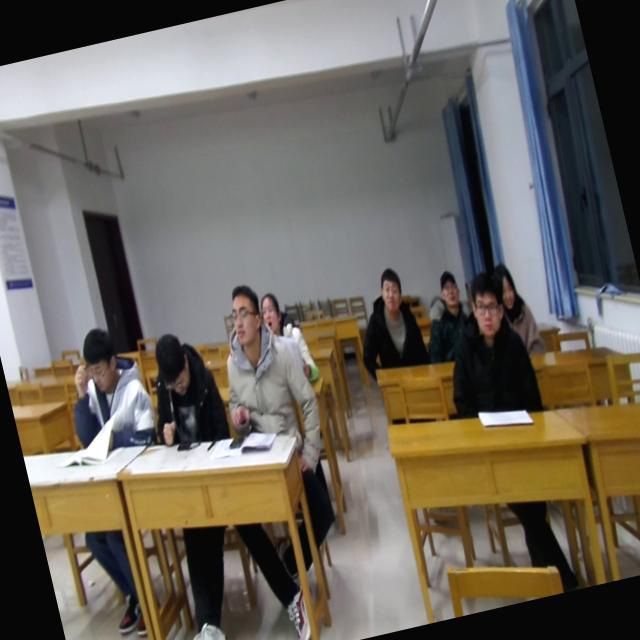down: (72, 318, 126, 398), (146, 325, 198, 403), (485, 256, 523, 316)
lookup: (461, 268, 512, 346), (218, 278, 269, 353), (371, 260, 408, 317), (255, 286, 289, 336), (432, 264, 464, 309)
sit: (200, 274, 319, 441), (427, 267, 542, 429), (51, 319, 162, 463), (134, 324, 232, 454), (342, 261, 431, 380), (256, 285, 324, 392), (411, 266, 483, 366), (483, 254, 547, 364)
